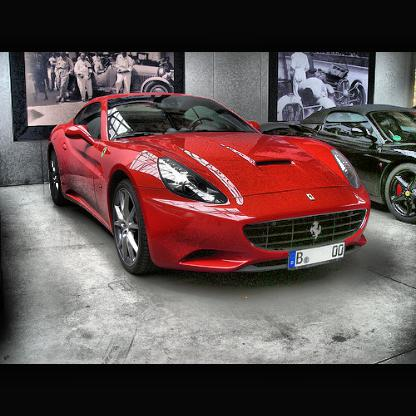Ferrari California Convertible 2012: (48, 95, 372, 279)
